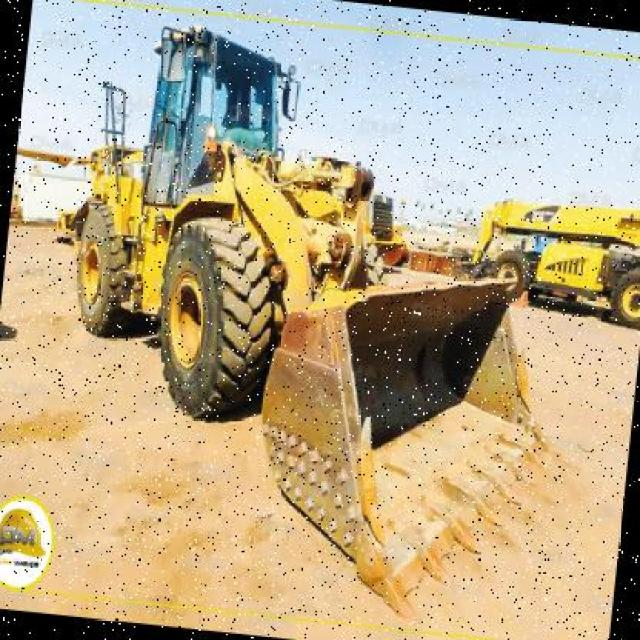buldozerpayloadergrader: (36, 4, 601, 636)
